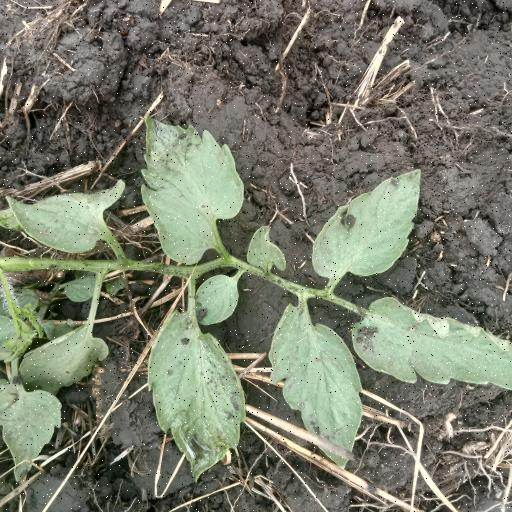Tomato_Mildiou: (345, 290, 512, 408), (148, 302, 249, 478), (140, 110, 252, 268), (268, 306, 369, 480), (304, 160, 422, 290)
